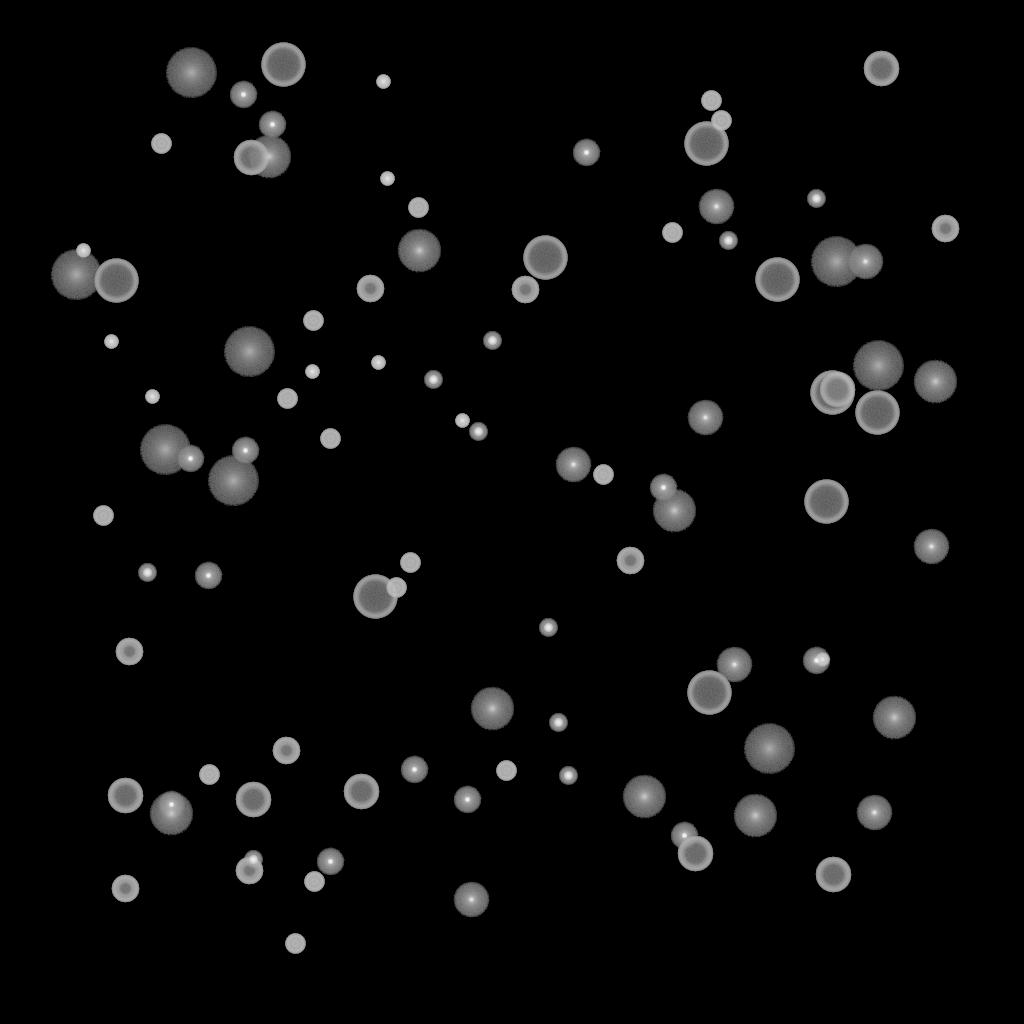depth:-10: (176, 445, 204, 473), (157, 791, 185, 819), (231, 437, 259, 465), (649, 474, 677, 502), (194, 562, 222, 590), (572, 139, 600, 167), (400, 756, 428, 784), (802, 647, 830, 675), (229, 81, 257, 109), (670, 822, 698, 850), (453, 786, 481, 814), (258, 111, 286, 139), (316, 848, 344, 876)
depth:-20: (483, 332, 501, 350), (559, 767, 577, 785), (244, 851, 262, 869), (138, 564, 156, 582), (719, 232, 737, 250), (549, 714, 567, 732), (424, 371, 442, 389), (539, 619, 557, 637), (807, 190, 825, 208), (469, 423, 487, 441)
depth:-30: (145, 390, 159, 404), (371, 356, 385, 370), (380, 172, 394, 186), (376, 75, 390, 89), (815, 653, 829, 667), (76, 244, 90, 258), (305, 365, 319, 379), (455, 414, 469, 428), (104, 335, 118, 349)
depth:-40: (199, 765, 219, 785), (93, 506, 113, 526), (151, 134, 171, 154), (662, 223, 682, 243), (701, 91, 721, 111), (593, 465, 613, 485), (711, 111, 731, 131), (408, 198, 428, 218), (320, 429, 340, 449), (285, 934, 305, 954), (400, 553, 420, 573), (277, 389, 297, 409), (303, 311, 323, 331), (386, 578, 406, 598), (304, 872, 324, 892), (496, 761, 516, 781)
depth:-50: (272, 737, 300, 765), (931, 215, 959, 243), (111, 875, 139, 903), (115, 638, 143, 666), (356, 275, 384, 303), (616, 547, 644, 575), (235, 857, 263, 885), (511, 276, 539, 304)
depth:-60: (233, 140, 269, 176), (235, 782, 271, 818), (819, 372, 855, 408), (677, 836, 713, 872), (107, 778, 143, 814), (863, 51, 899, 87), (815, 857, 851, 893), (343, 774, 379, 810)
depth:-70: (755, 258, 799, 302), (684, 122, 728, 166), (810, 371, 854, 415), (523, 236, 567, 280), (855, 391, 899, 435), (94, 259, 138, 303), (261, 43, 305, 87), (687, 671, 731, 715), (353, 575, 397, 619), (804, 480, 848, 524)
depth:0: (847, 244, 883, 280), (453, 882, 489, 918), (698, 189, 734, 225), (555, 447, 591, 483), (716, 647, 752, 683), (687, 400, 723, 436), (856, 795, 892, 831), (913, 529, 949, 565)
depth:10: (913, 360, 957, 404), (149, 792, 193, 836), (652, 489, 696, 533), (733, 794, 777, 838), (470, 687, 514, 731), (247, 135, 291, 179), (622, 775, 666, 819), (872, 696, 916, 740), (397, 229, 441, 273)
depth:20: (165, 48, 217, 98), (50, 250, 102, 300), (810, 237, 862, 287), (207, 456, 259, 506), (139, 425, 191, 475), (223, 327, 275, 377), (743, 724, 795, 774), (852, 341, 904, 391)
